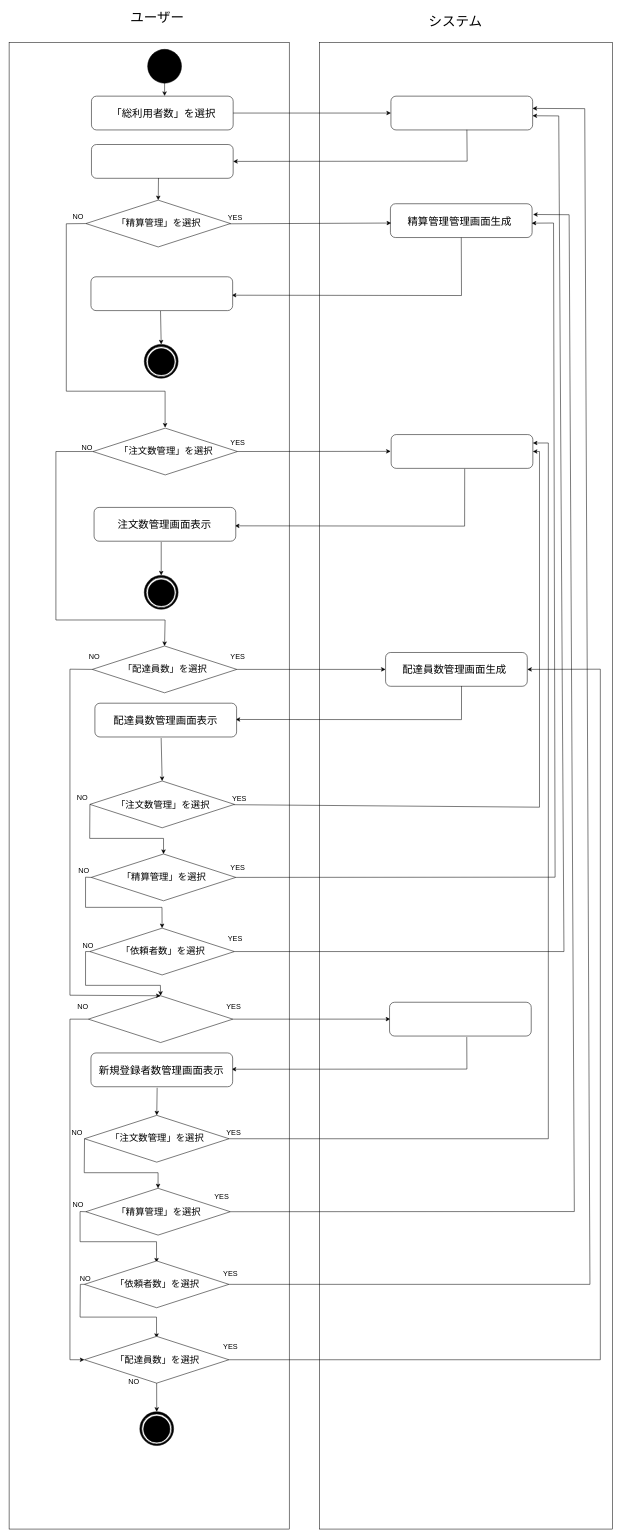
Image size: 621x1539. Some labels were removed from this diagram. The shapes that lost their labels are listed below. From the top down, each one's box as (x1, y1, x2, y2) in pixels, then its label:
(390, 96, 533, 130): 依頼者数管理画面生成
(91, 144, 233, 178): 依頼者数管理画面表示
(90, 276, 233, 311): 精算管理 画面表示
(391, 434, 533, 468): 注文数管理画面生成
(88, 995, 233, 1043): 「新規登録」を選択
(389, 1002, 531, 1036): 新規登録者数管理画面生成
